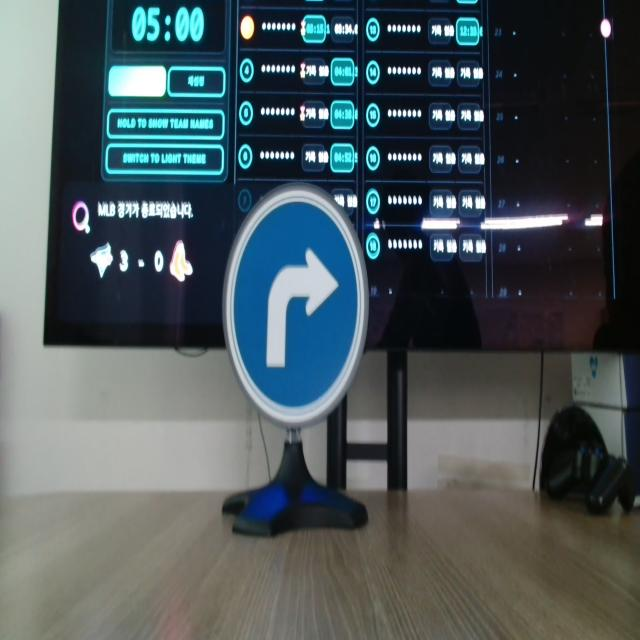right_dierection: (223, 182, 369, 430)
